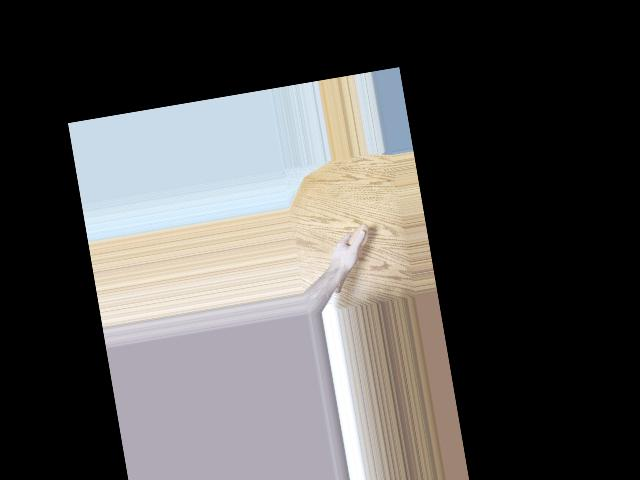sweet_potato: (325, 221, 379, 294)
